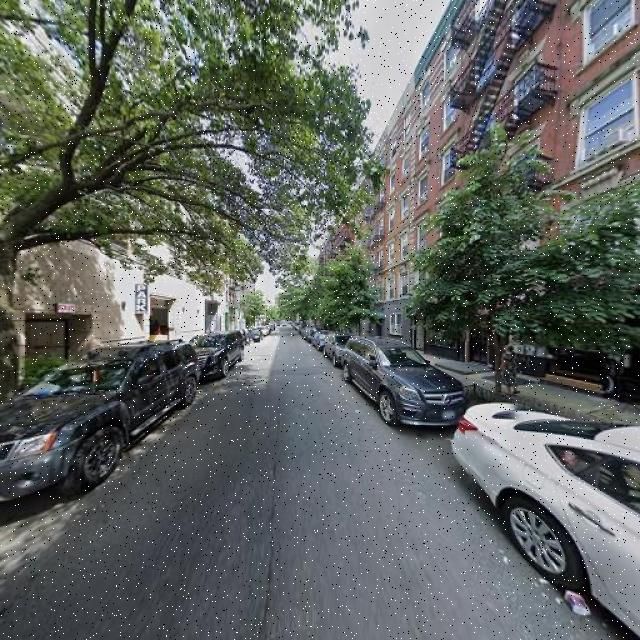Building: (1, 1, 225, 379), (437, 1, 640, 398), (362, 42, 434, 352)
